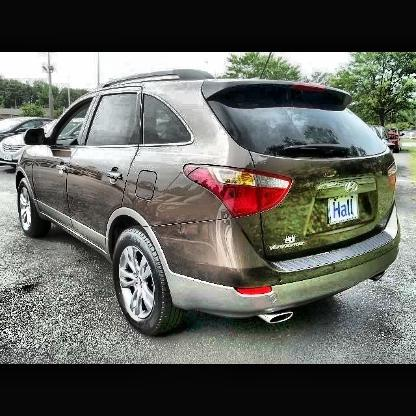Hyundai Veracruz SUV 2012: (17, 76, 404, 337)
